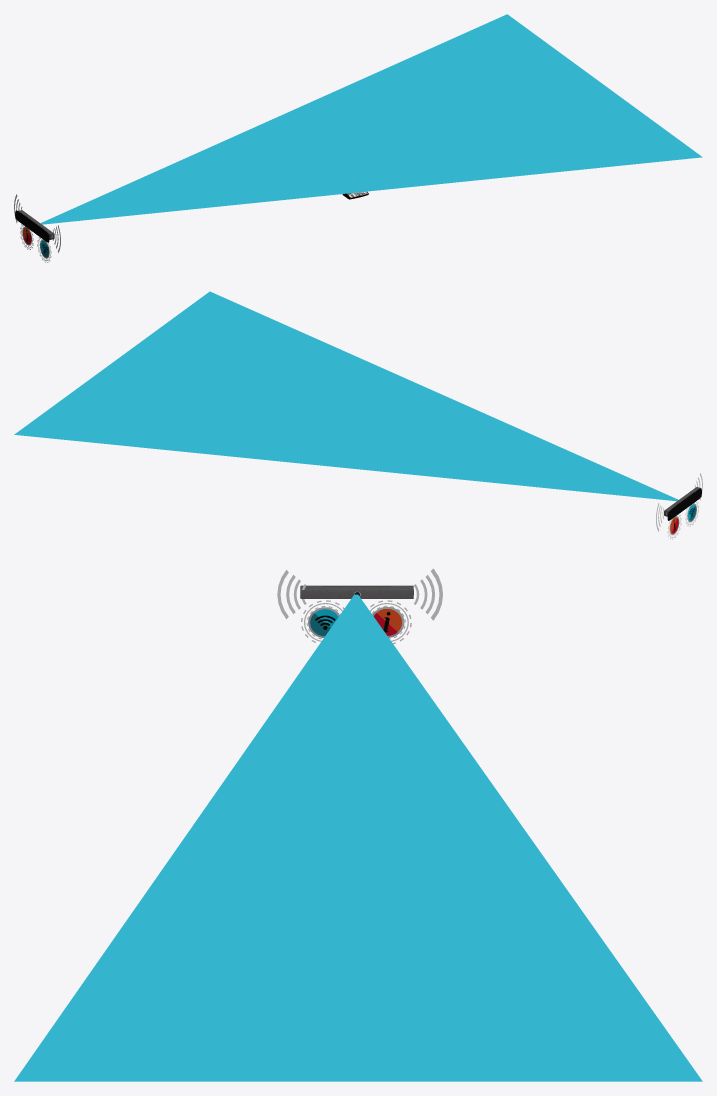
Rendered from MediumProps_Neatbar-01.glb.
3 renders of one model, top to bottom at view 1: azimuth 30°, elevation 25°; view 2: azimuth 150°, elevation 25°; view 3: azimuth 270°, elevation 25°, orthographic. The views are drawn at different scales.
Parts seen in each view (by area): view 1: Range_Neatbar; view 2: Range_Neatbar; view 3: Range_Neatbar, MediumProps_Neatbar, CamPop_Neatbar.001.
Boxes of the visible parts, x1,y1,x2,y2 form: Range_Neatbar: [40, 14, 702, 224]; Range_Neatbar: [14, 291, 678, 501]; Range_Neatbar: [14, 594, 702, 1081]; MediumProps_Neatbar: [300, 585, 413, 598]; CamPop_Neatbar.001: [277, 568, 442, 620].
Size of the model in its own units: 7.64 by 0.574 by 4.52.
8 materials, 4 textured.
